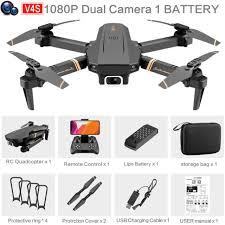drone: (0, 17, 225, 109)
